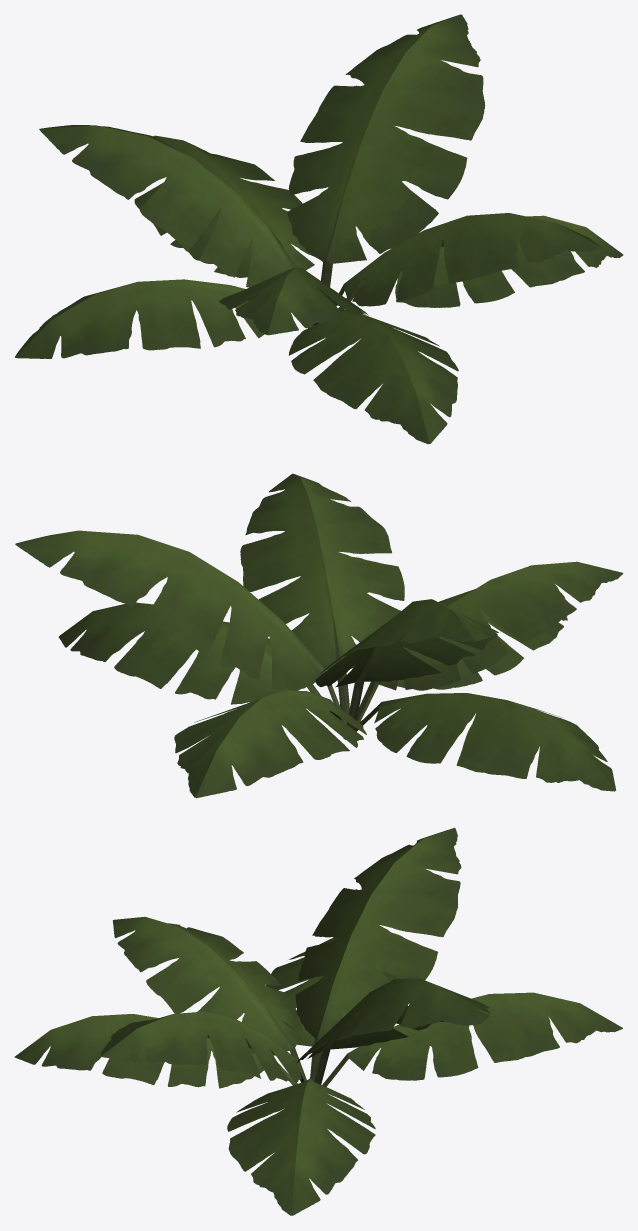
The picture shows the model from 3 angles, top to bottom: view 1: azimuth 30°, elevation 25°; view 2: azimuth 150°, elevation 25°; view 3: azimuth 270°, elevation 25°; orthographic projection. The views are drawn at different scales.
Parts seen in each view (by area): view 1: body0_model0_lod0_mesh0; view 2: body0_model0_lod0_mesh0; view 3: body0_model0_lod0_mesh0.
Part boxes in pixels (x1=…): body0_model0_lod0_mesh0: x1=15, y1=14, x2=623, y2=444; body0_model0_lod0_mesh0: x1=15, y1=473, x2=623, y2=798; body0_model0_lod0_mesh0: x1=14, y1=827, x2=622, y2=1215.
Bounding box in the file's own units: 123 × 43.21 × 123.
1 material, 1 textured.
